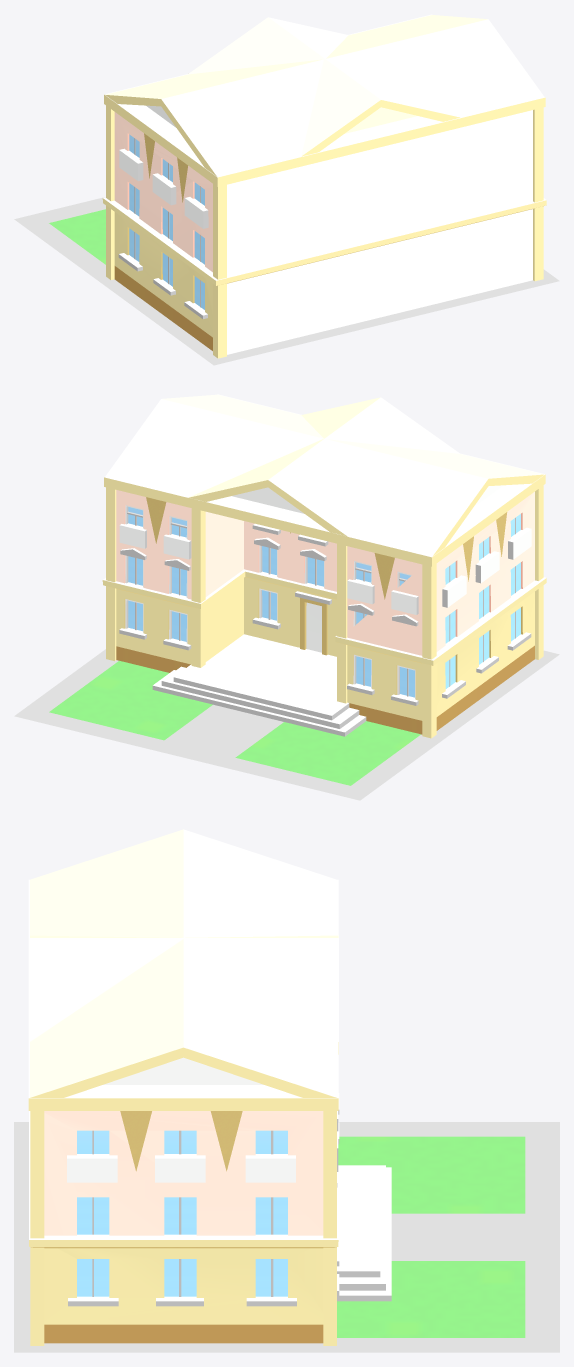
3 views of the same model, one above another, from view 1: azimuth 30°, elevation 25°; view 2: azimuth 150°, elevation 25°; view 3: azimuth 270°, elevation 25° (orthographic). The views are drawn at different scales.
Parts seen in each view (by area): view 1: art.005, tile_for_home_2x2.002; view 2: art.005, tile_for_home_2x2.002; view 3: art.005, tile_for_home_2x2.002.
Part boxes in pixels (x1=…): art.005: x1=102, y1=14, x2=546, y2=358; tile_for_home_2x2.002: x1=14, y1=197, x2=559, y2=365; art.005: x1=102, y1=394, x2=546, y2=738; tile_for_home_2x2.002: x1=14, y1=649, x2=559, y2=800; art.005: x1=28, y1=829, x2=391, y2=1345; tile_for_home_2x2.002: x1=14, y1=1122, x2=559, y2=1352.
Size of the model in its own units: 16 by 9.78 by 16.
Materials: 1 (1 with a texture image).
